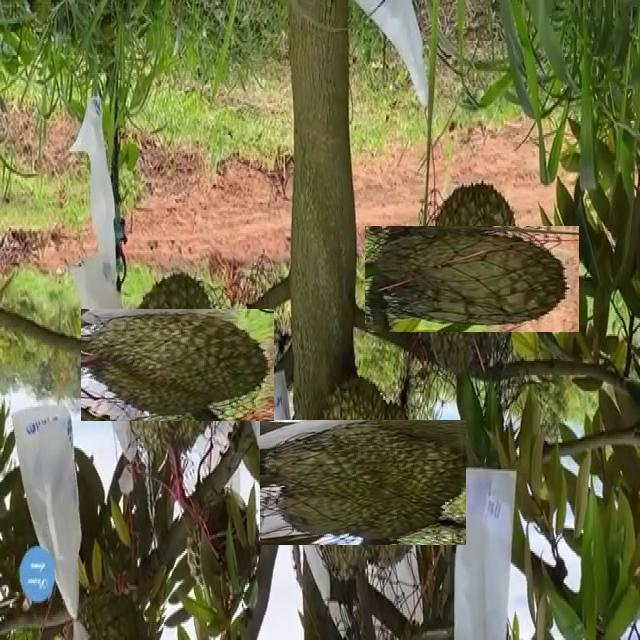durian: (281, 399, 446, 566), (392, 198, 553, 359), (101, 288, 255, 442)
